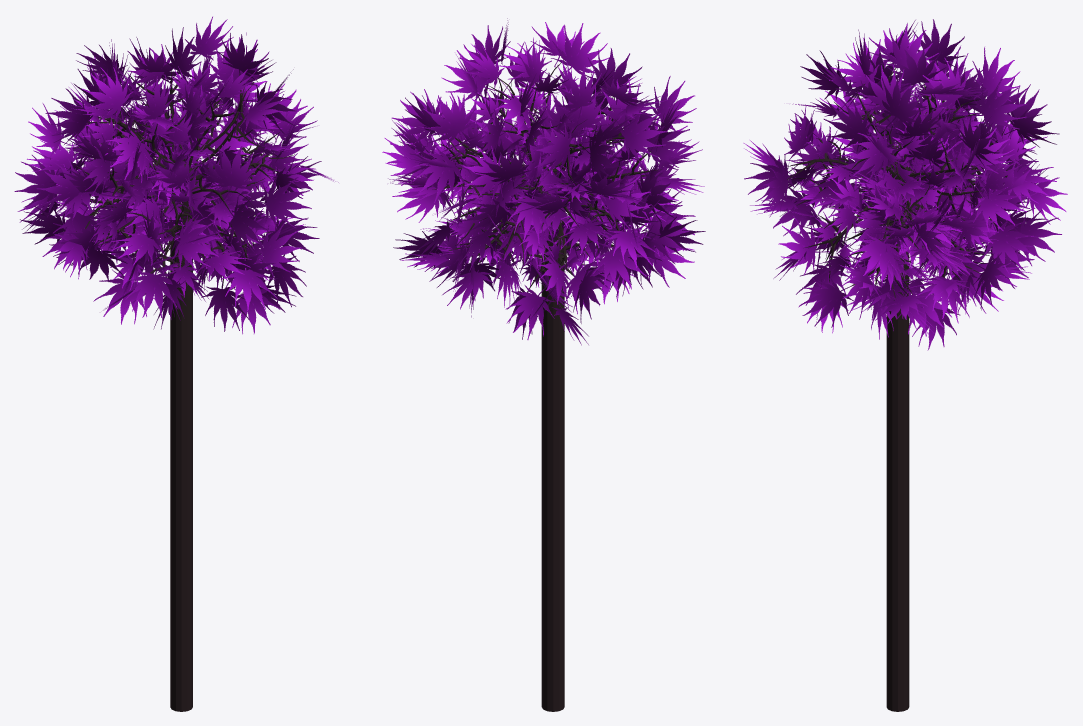
File: purpletree5.fbx
The picture shows the model from 3 angles, left to right: view 1: azimuth 30°, elevation 25°; view 2: azimuth 150°, elevation 25°; view 3: azimuth 270°, elevation 25°; orthographic projection.
Parts seen in each view (by area): view 1: pCylinder1071; view 2: pCylinder1071; view 3: pCylinder1071.
Boxes of the visible parts, x1=… form: pCylinder1071: x1=14, y1=16, x2=338, y2=711; pCylinder1071: x1=382, y1=18, x2=705, y2=711; pCylinder1071: x1=743, y1=19, x2=1067, y2=711.
Bounding box in the file's own units: 19.01 × 41.78 × 18.72.
